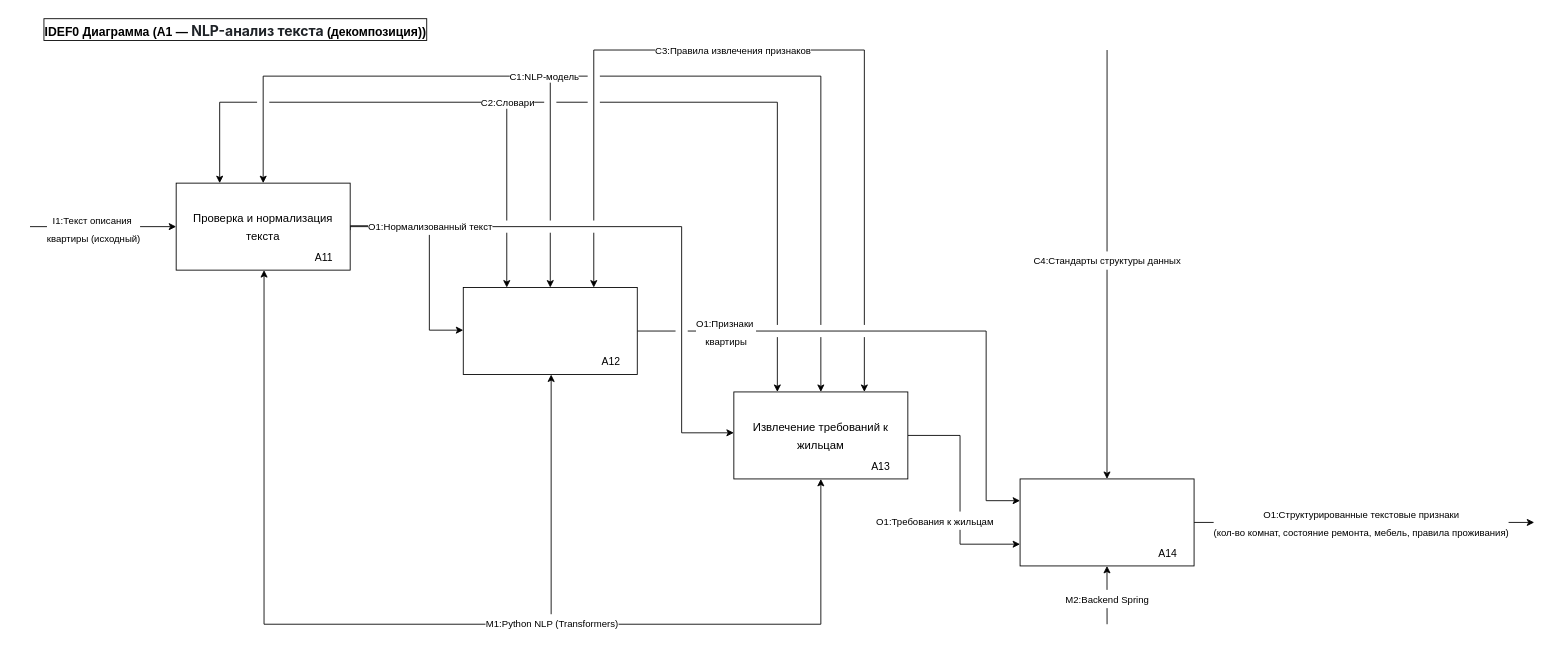
Image size: 1556x647. Some labels were removed from this diagram. The shapes that lost their labels are listed below. From the top down, each one's box as (x1, y1, x2, y2) in pixels, then its label:
(462, 287, 637, 375): Извлечение характеристик квартиры (NLP)
(1019, 478, 1194, 566): Формирование набора текстовых признаков
